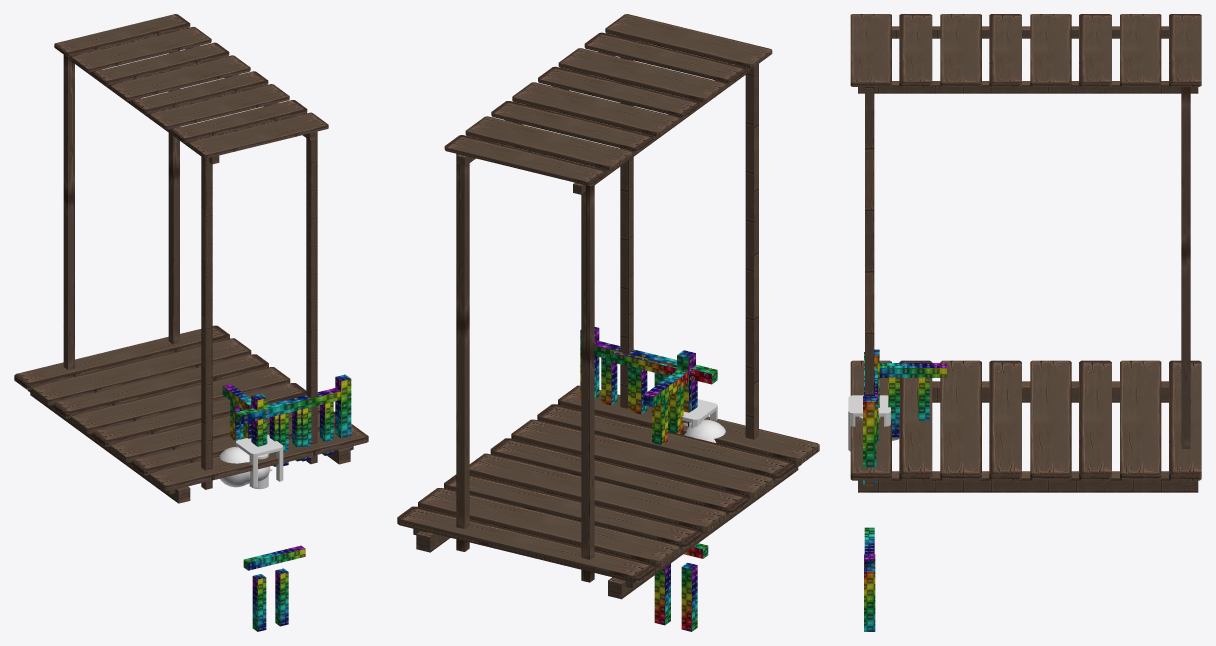
Rendered from plank2.fbx.
3 renders of one model, left to right at view 1: azimuth 30°, elevation 25°; view 2: azimuth 150°, elevation 25°; view 3: azimuth 270°, elevation 25°, orthographic. The views are drawn at different scales.
Parts seen in each view (by area): view 1: 立方体.015, 立方体.007, 立方体.014, 立方体.008, rail, 立方体.002, 融球.004, 立方体.018; view 2: 立方体.015, 立方体.007, 立方体.008, 立方体.014, rail, 融球.004, 立方体.002; view 3: 立方体.007, 立方体.015, 立方体.008, 立方体.014, rail, 立方体.002.
Boxes of the visible parts, x1,y1,x2,y2 form: 立方体.015: [54, 14, 328, 489]; 立方体.007: [14, 325, 368, 503]; 立方体.014: [236, 374, 351, 465]; 立方体.008: [222, 384, 301, 466]; rail: [252, 568, 288, 631]; 立方体.002: [236, 434, 283, 487]; 融球.004: [219, 447, 269, 487]; 立方体.018: [243, 545, 305, 570]; 立方体.015: [444, 14, 772, 582]; 立方体.007: [397, 385, 819, 599]; 立方体.008: [611, 350, 695, 444]; 立方体.014: [580, 327, 717, 411]; rail: [654, 562, 697, 631]; 融球.004: [684, 419, 725, 442]; 立方体.002: [682, 399, 717, 428]; 立方体.007: [850, 360, 1201, 492]; 立方体.015: [850, 14, 1201, 448]; 立方体.008: [874, 349, 946, 442]; 立方体.014: [863, 352, 876, 484]; rail: [864, 554, 875, 631]; 立方体.002: [848, 395, 890, 451].
Size of the model in its own units: 2521 by 5864 by 3305.
